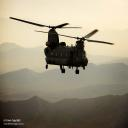helicopter: (11, 18, 117, 75)
